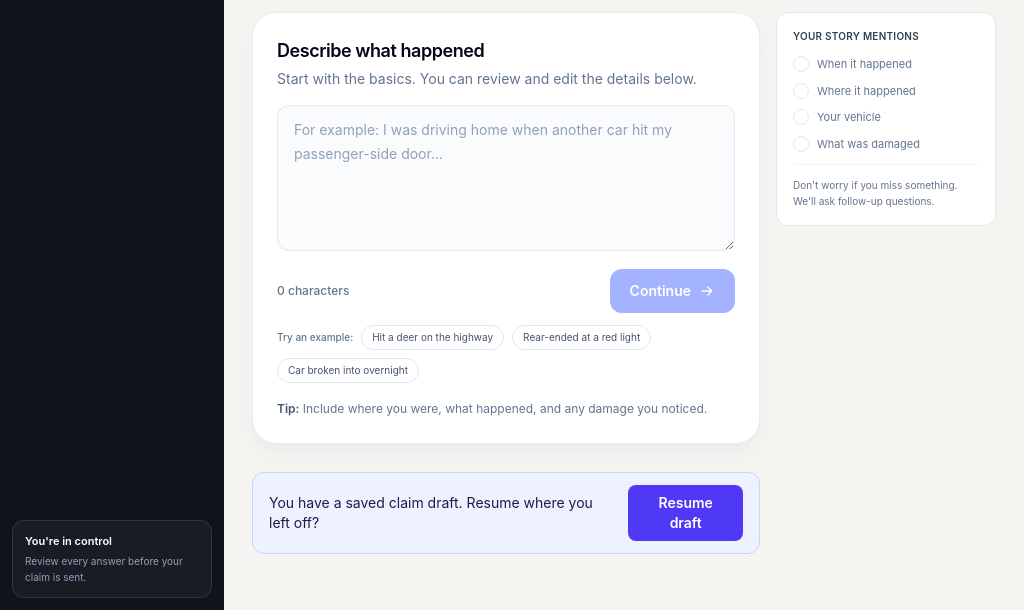
Test: ClaimPage draft and submission flow › offers a draft from the URL and loads it by id
The image size is (1024, 610).
(page scrolled)
Click the button "Resume draft". click: (686, 513)
box: x1=628 y1=485 x2=743 y2=541
(page scrolled)
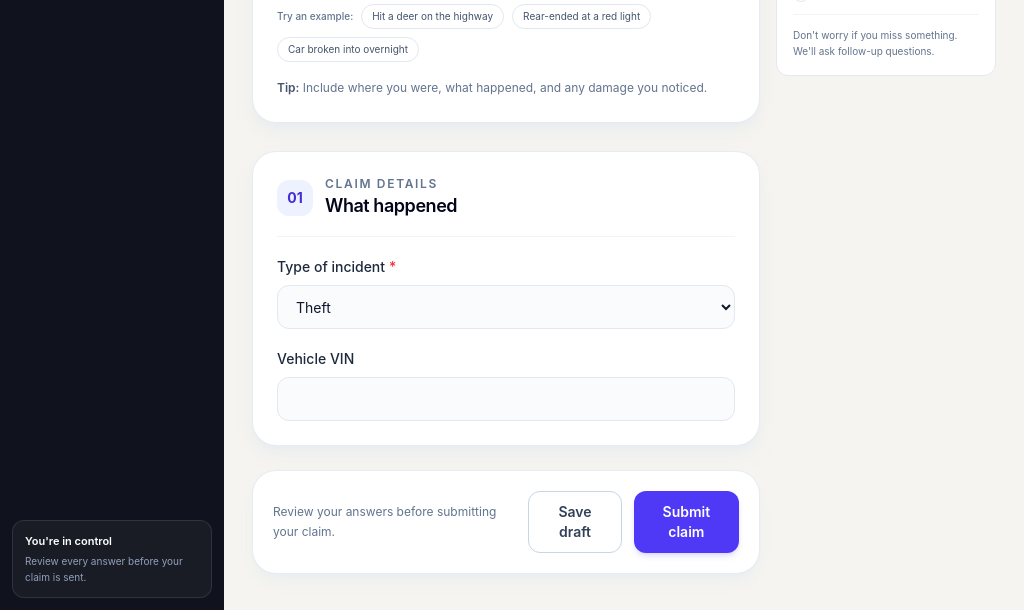
Check: the dropdown labelled "Type of incident" shows "Theft", box x1=277 y1=285 x2=735 y2=329
